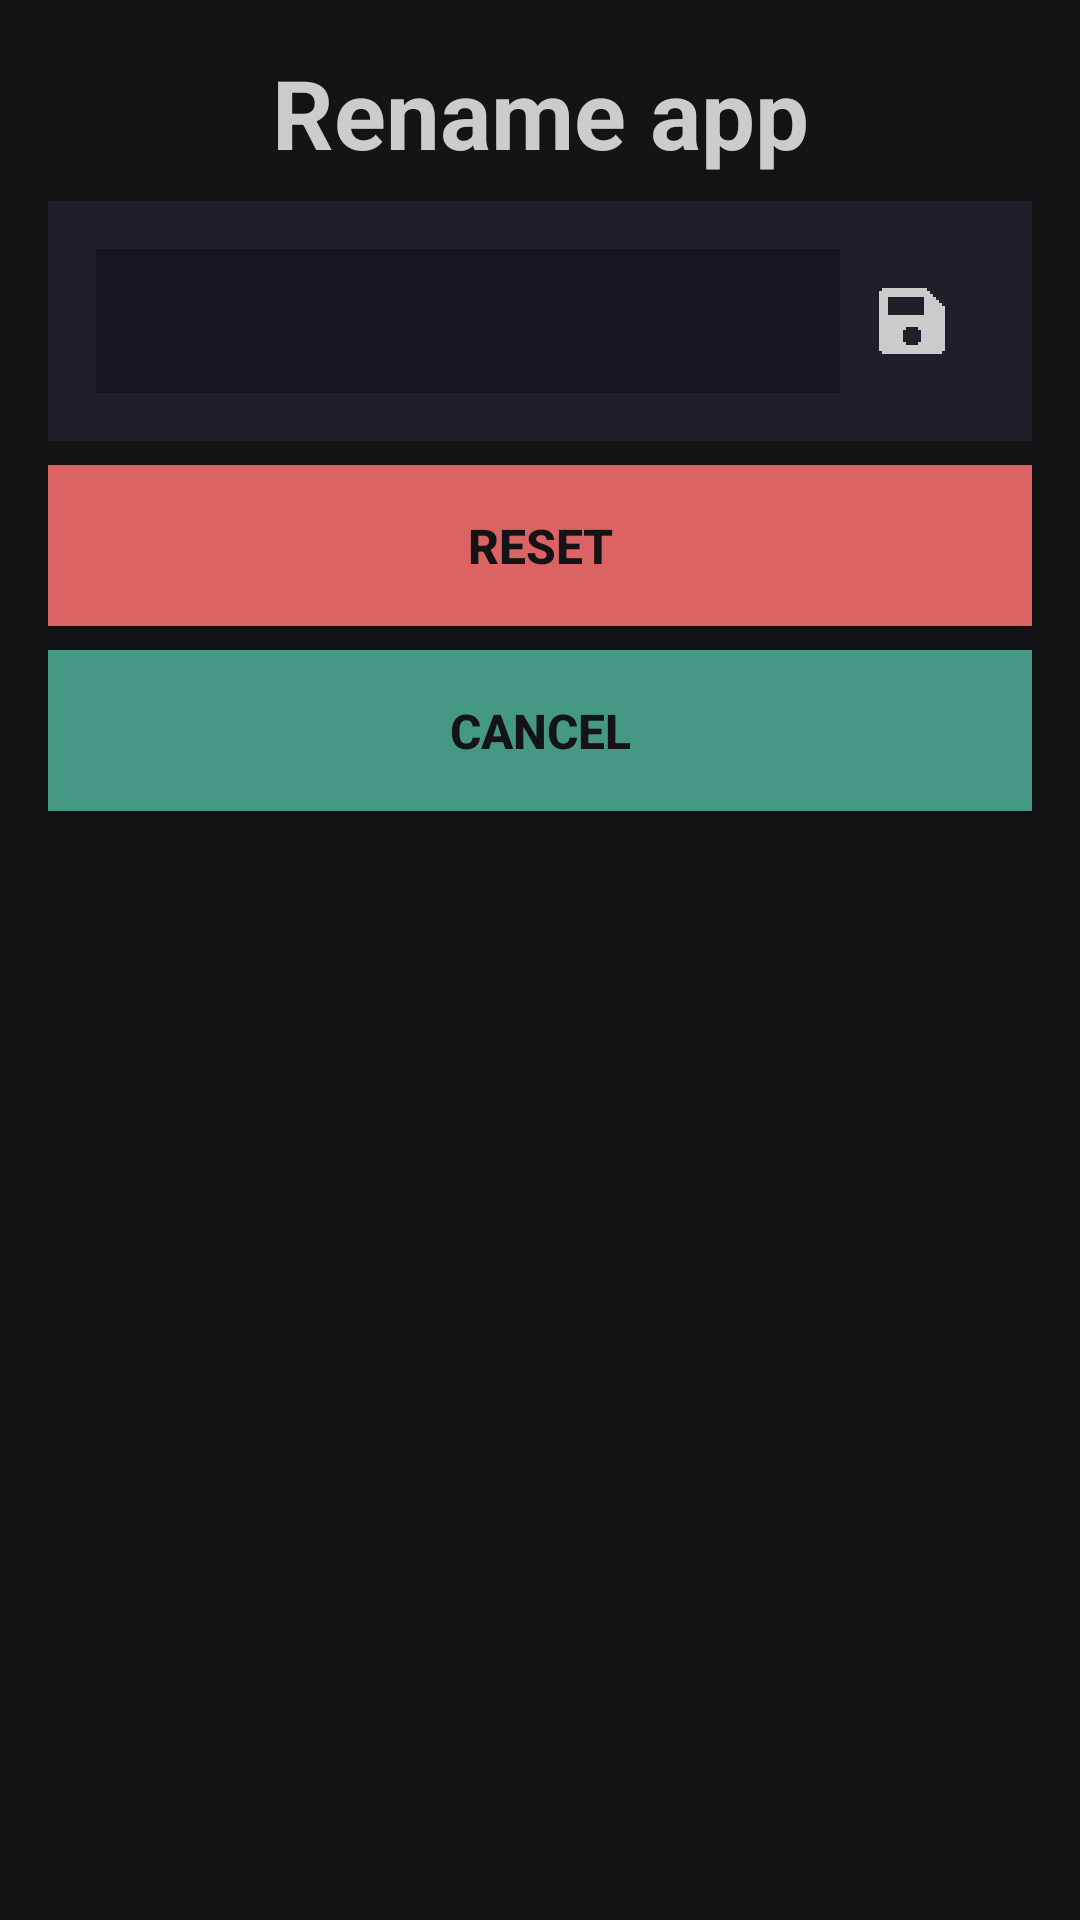

Where to tap for icons on this 1080px×1920px app screen, as (x,y):
Save: (912,321)
